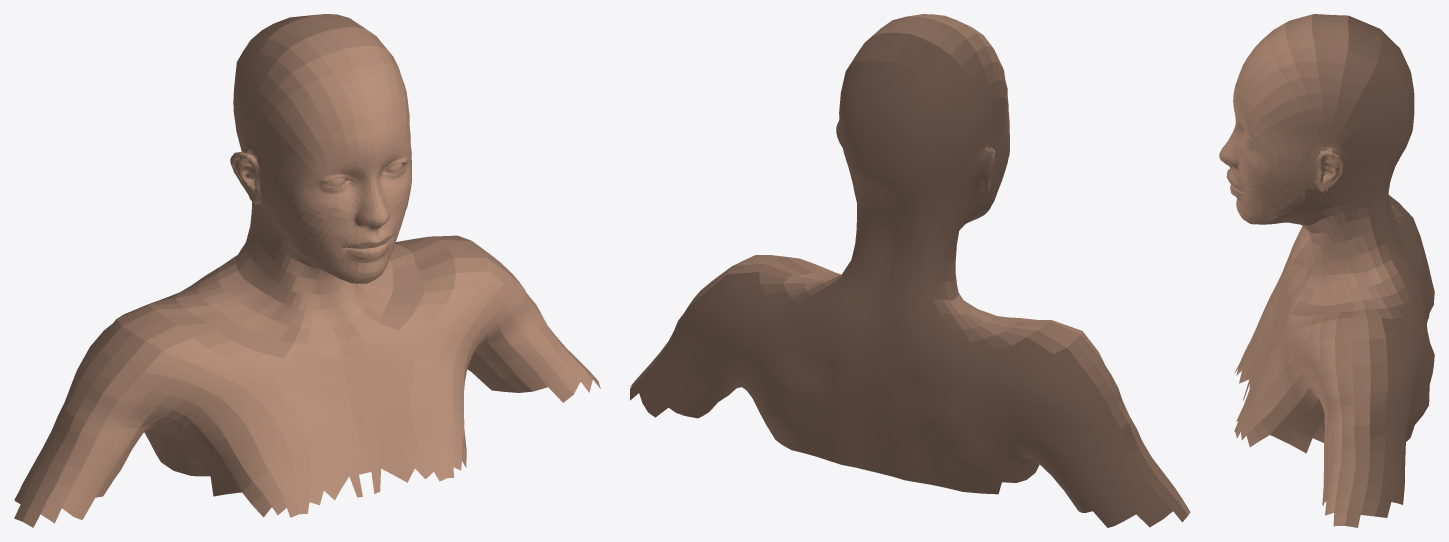
3 renders of one model, left to right at view 1: azimuth 30°, elevation 25°; view 2: azimuth 150°, elevation 25°; view 3: azimuth 270°, elevation 25°, orthographic. The views are drawn at different scales.
Visible parts, largest first — view 1: body; view 2: body; view 3: body.
Part boxes in pixels (box(x1,y1,x2,y2)): body: box(14, 14, 600, 527); body: box(630, 14, 1190, 527); body: box(1219, 14, 1434, 527).
Size of the model in its own units: 1.24 by 0.9 by 0.4589.
